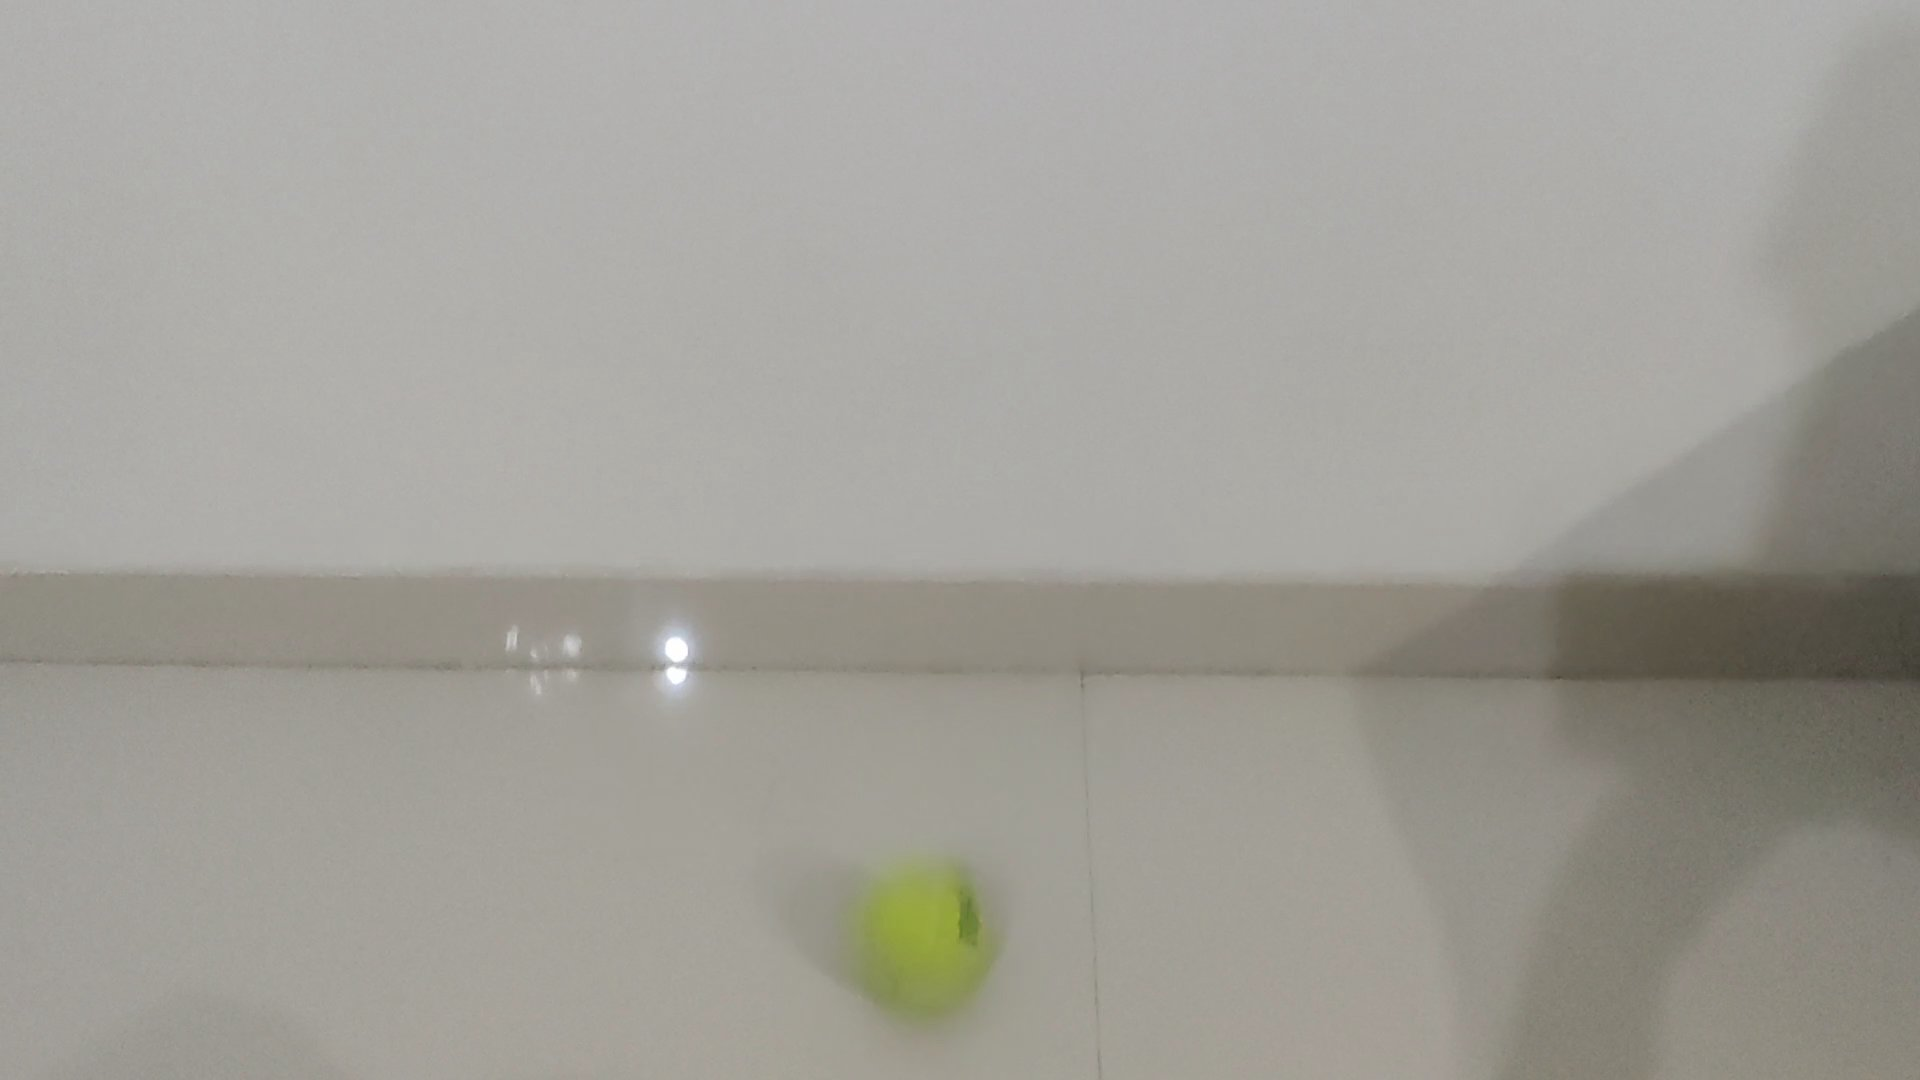Tennis-Ball: (855, 872, 992, 1011)
